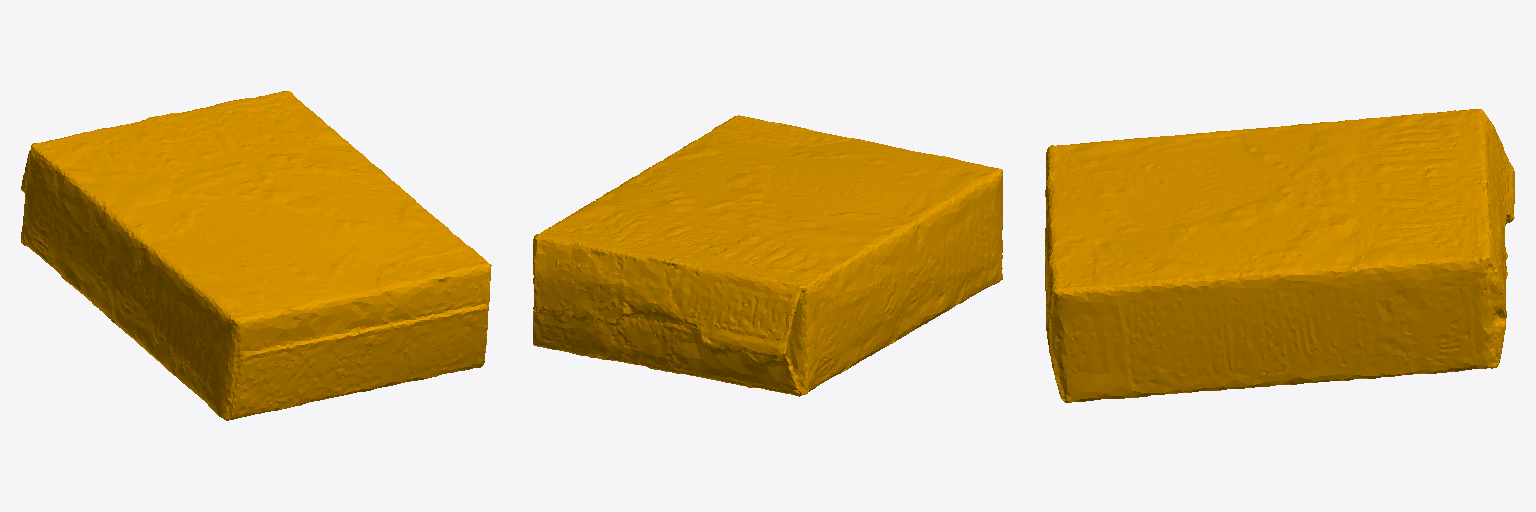
URDF robot description (model.urdf):
<?xml version="1.0" ?>
        <robot name="model.urdf">
        <link name="baseLink">
            <contact>
                <lateral_friction value="0.8"/>
                <rolling_friction value="0.001"/>g
                <contact_cfm value="0.0"/>
                <contact_erp value="1.0"/>
            </contact>
            <inertial>
                <mass value="0.066"/>
                <inertia ixx="0.001" ixy="0" ixz="0" iyy="0.001" iyz="0" izz="0.001"/>
            </inertial>
            <visual>
            <geometry>
                <mesh filename="snackbox.obj" scale="1 1 1"/>
            </geometry>
            
            </visual>
            <collision>
            <geometry>
                <mesh filename="snackbox.obj" scale="1 1 1"/>
            </geometry>
            </collision>
        </link>
        </robot>

--- What the picture shows (computed from the rendered views, not written in the file) ---
3 views of the same robot in one strip: view 1: azimuth 30°, elevation 25°; view 2: azimuth 150°, elevation 25°; view 3: azimuth 270°, elevation 25° (orthographic).
Model model.urdf with 1 links and 0 joints (none), rooted at baseLink, posed all joints at 0.
Visible links, largest first — view 1: baseLink; view 2: baseLink; view 3: baseLink.
Boxes of the visible links, <box> form: baseLink: <box>21,91,491,420</box>; baseLink: <box>533,115,1002,396</box>; baseLink: <box>1045,109,1514,402</box>.
Size in the robot's own frame: 0.1653 by 0.2277 by 0.0843 metres.
1 mesh visuals loaded from 1 distinct referenced files (1 OBJ).